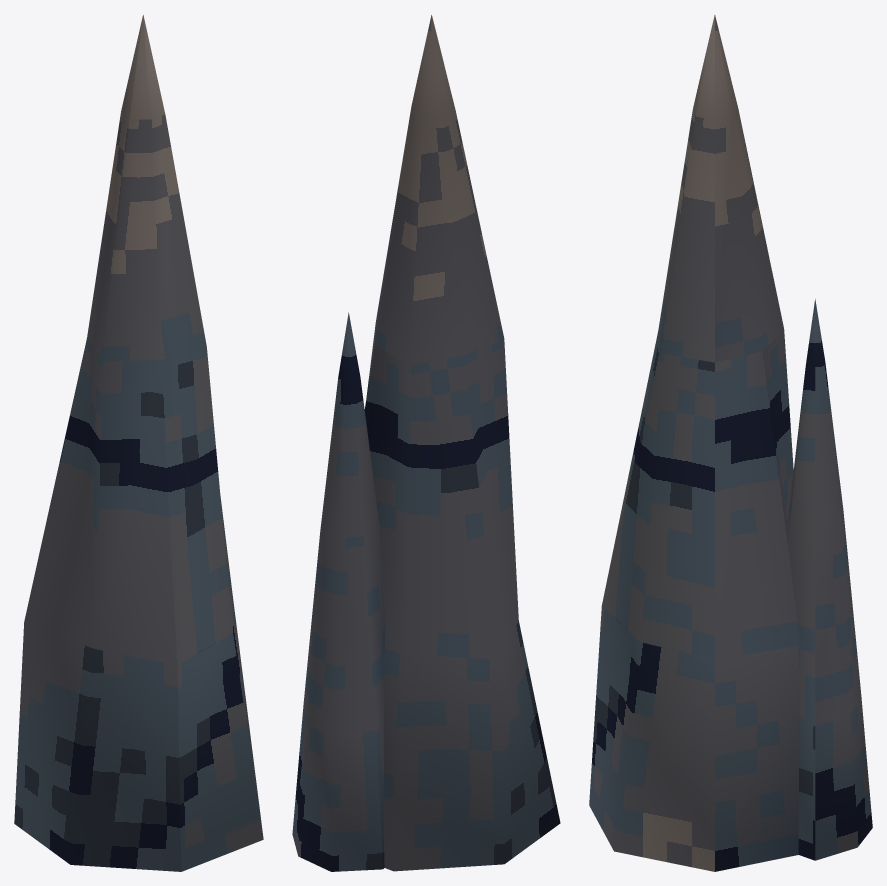
The model's file is cave.spike.glb.
3 views of the same model, side by side, from view 1: azimuth 30°, elevation 25°; view 2: azimuth 150°, elevation 25°; view 3: azimuth 270°, elevation 25° (orthographic).
Visible parts, largest first — view 1: kit_dripstone; view 2: kit_dripstone; view 3: kit_dripstone.
Boxes of the visible parts, x1,y1,x2,y2 form: kit_dripstone: [14, 15, 263, 871]; kit_dripstone: [292, 15, 560, 871]; kit_dripstone: [589, 14, 872, 871].
Size of the model in its own units: 0.6083 by 2.2 by 0.704.
1 material, 1 textured.
